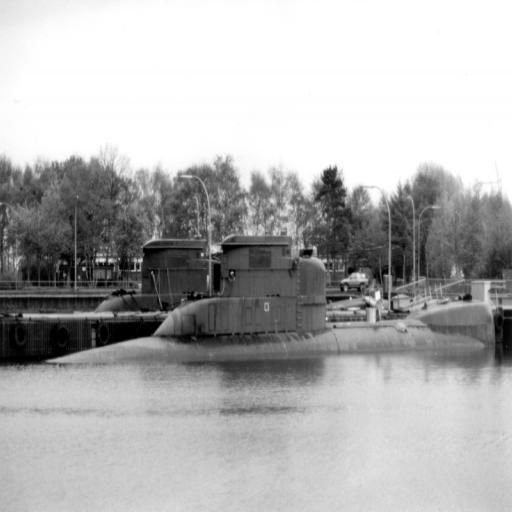submarine: (47, 236, 495, 366)
